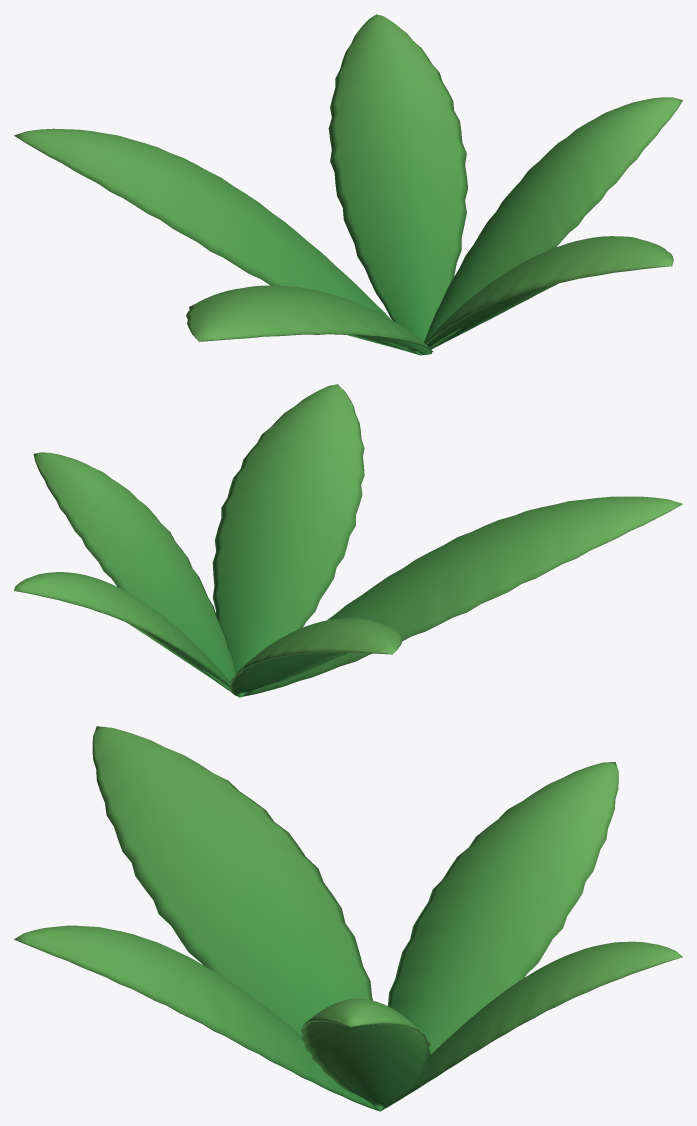
File: recipe-mint.glb
3 views of the same model, one above another, from view 1: azimuth 30°, elevation 25°; view 2: azimuth 150°, elevation 25°; view 3: azimuth 270°, elevation 25° (orthographic). The views are drawn at different scales.
Visible parts, largest first — view 1: Five bent mint leaves; view 2: Five bent mint leaves; view 3: Five bent mint leaves.
Boxes of the visible parts, bbox=[...] form: Five bent mint leaves: bbox=[14, 14, 682, 355]; Five bent mint leaves: bbox=[14, 384, 682, 697]; Five bent mint leaves: bbox=[14, 726, 682, 1111].
Bounding box in the file's own units: 5.88 × 1.93 × 5.53.
